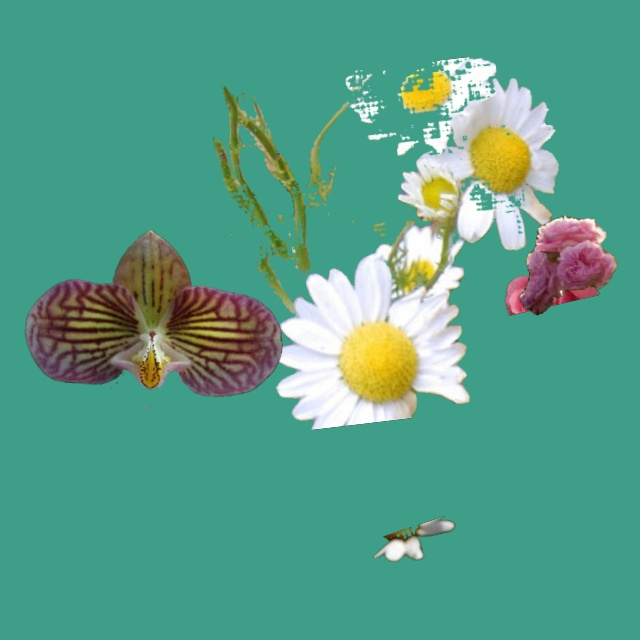daisy: (213, 57, 558, 429), (373, 516, 454, 561)
orchid: (25, 230, 282, 407)
rose: (519, 216, 616, 314), (505, 266, 599, 314)
